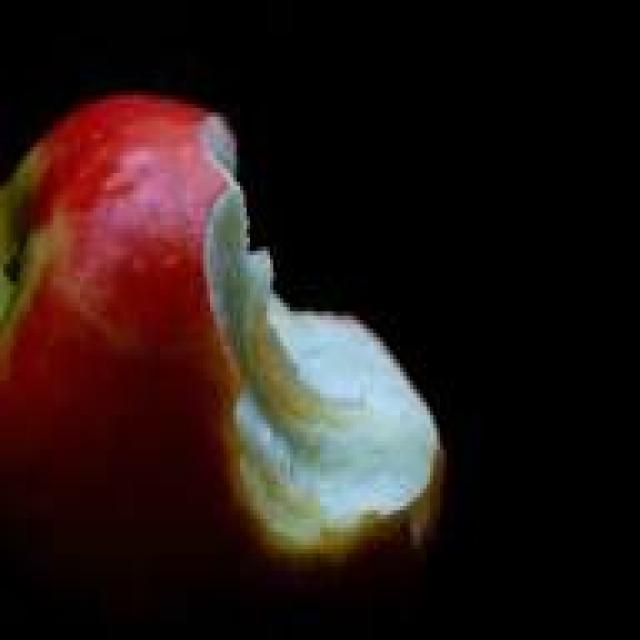Used Apple: (3, 96, 442, 562)
